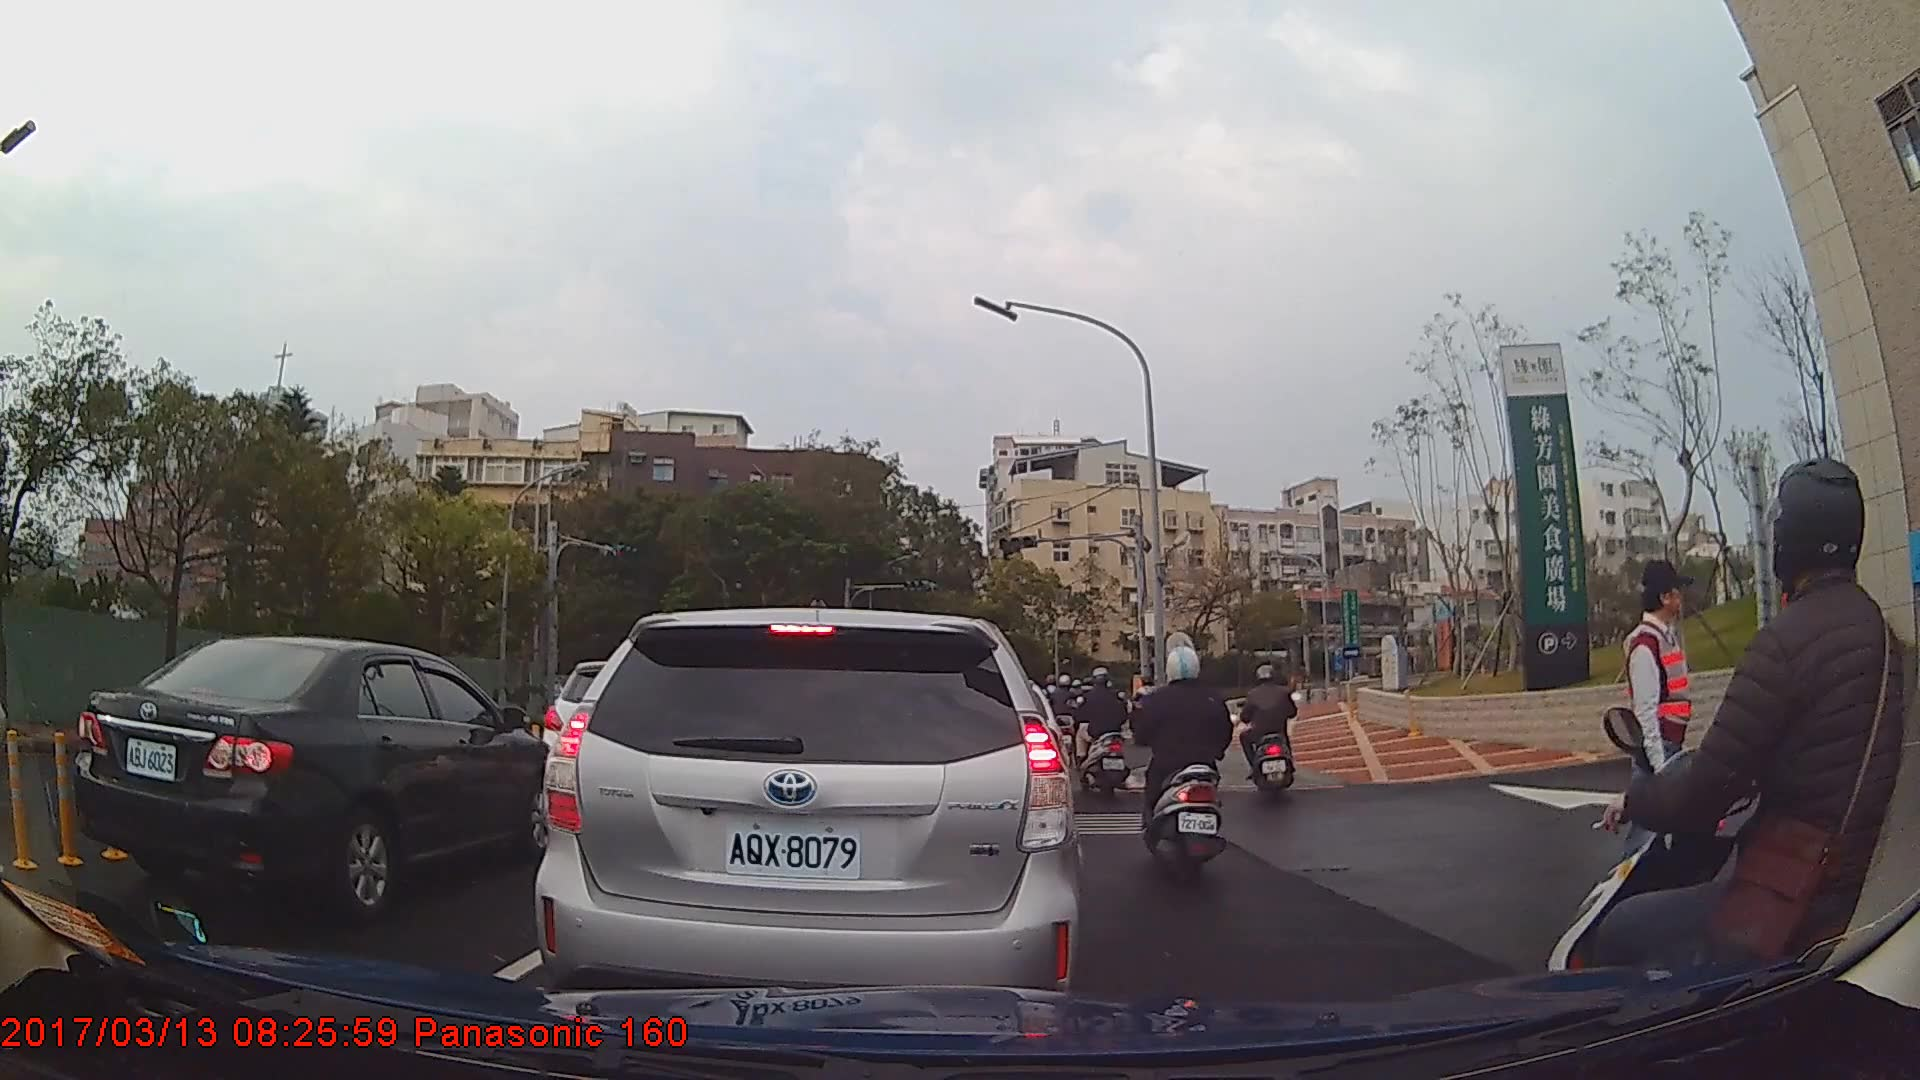pedestrian: (1615, 558, 1698, 943)
rider: (1553, 459, 1920, 1071), (1136, 642, 1244, 895), (1233, 663, 1298, 796), (1079, 665, 1136, 804), (1051, 675, 1085, 764)
vehicle: (536, 605, 1082, 1042), (71, 633, 559, 920)
